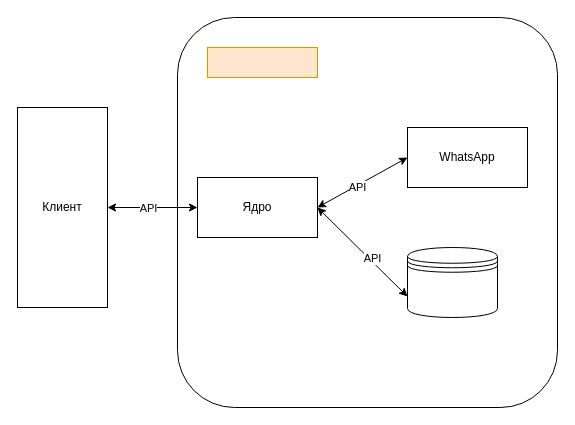
Some shapes in this 575 by 425 pixel diagram are drawn without their labels. Each missing label, with the box of its shape:
Серверная часть: (206, 46, 318, 78)
СУБД: (406, 246, 498, 318)
